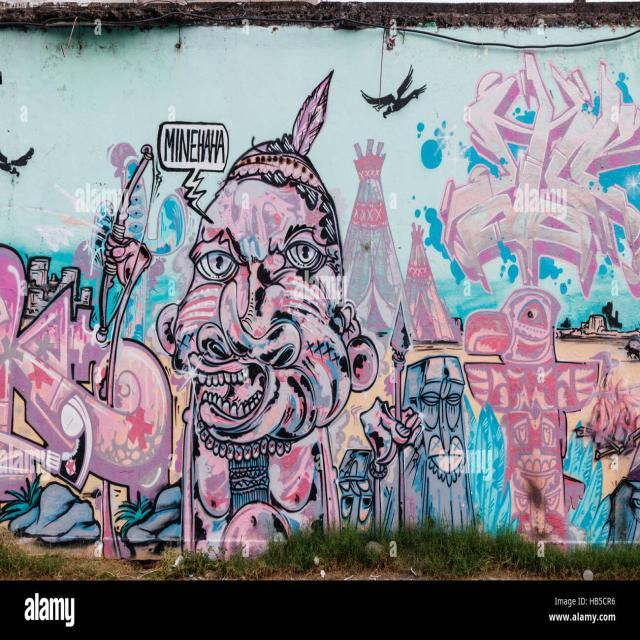-: (0, 68, 640, 556), (438, 47, 640, 301)
